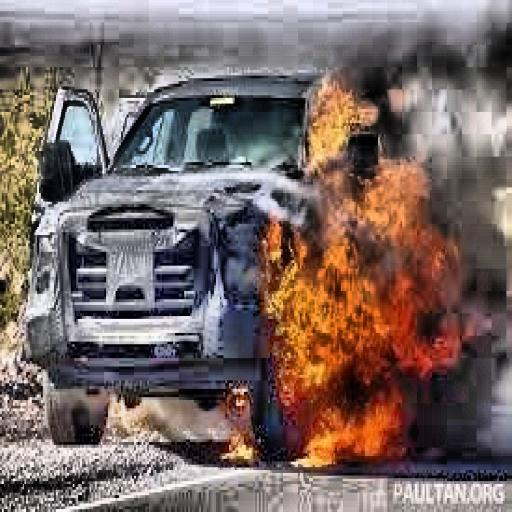fire: (268, 70, 466, 481)
